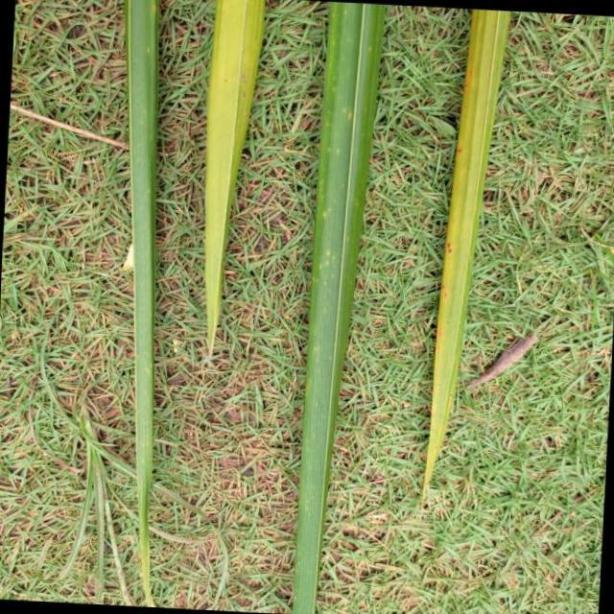nitrogen: (291, 0, 389, 614), (416, 6, 524, 518), (116, 0, 164, 614), (194, 0, 268, 370)
